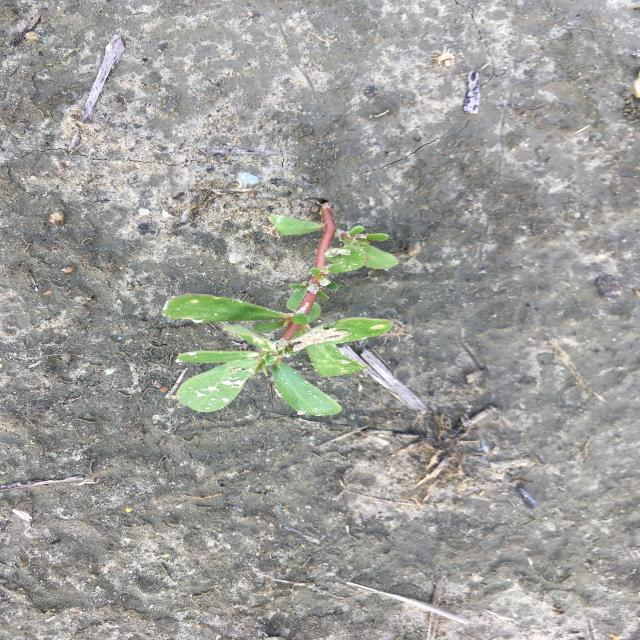Purslane: (159, 201, 402, 417)
